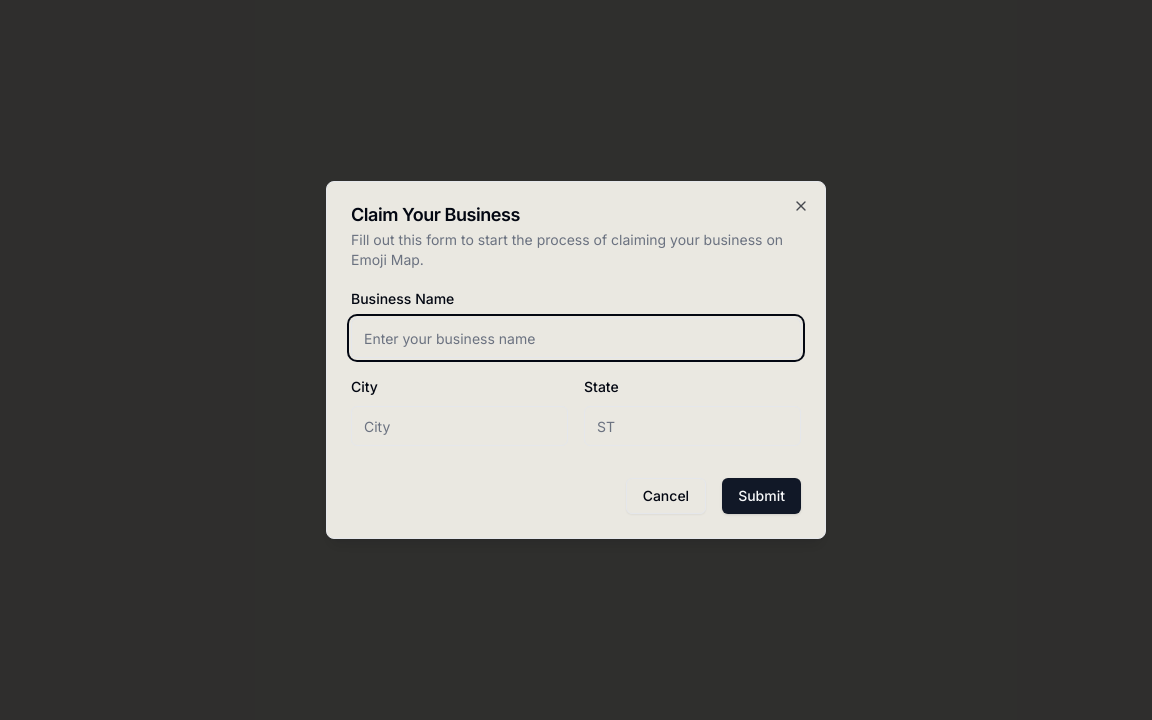
ClaimDialog › handles form reset on cancel
The image size is (1152, 720).
Step 1. Type "Test Business" into the field labelled "Business Name" → x=576, y=338, box [351,318,801,358]
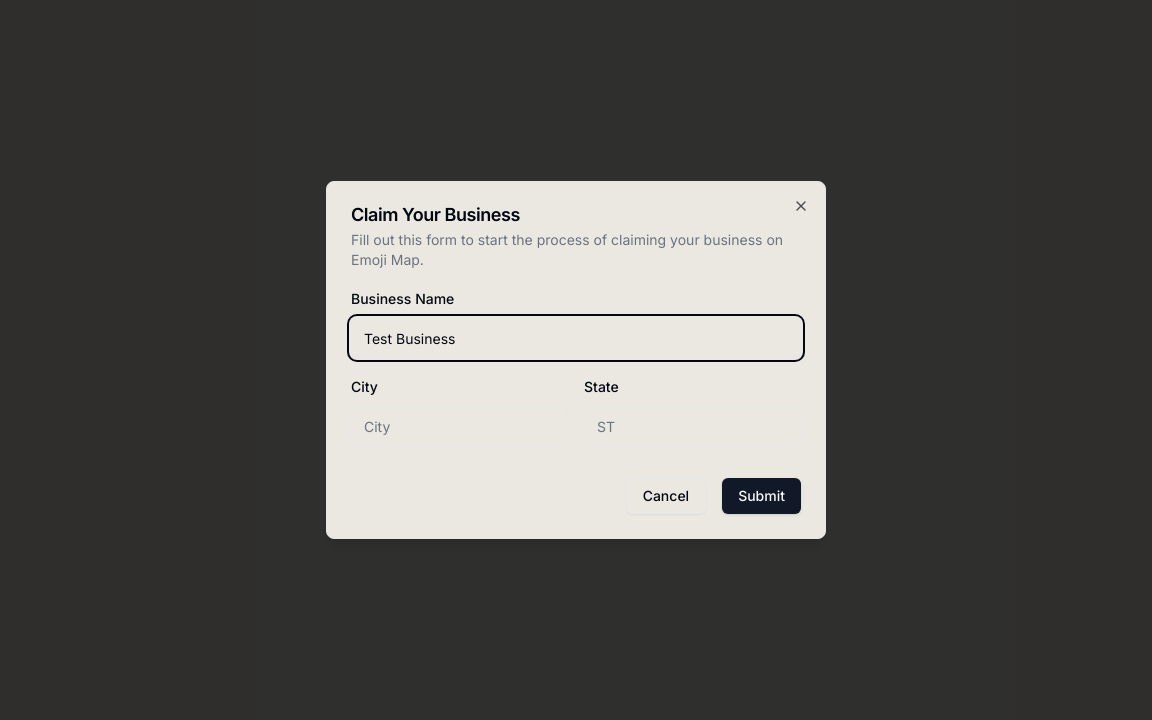
Step 2. Type "Test City" into the field labelled "City" → x=460, y=426, box [351,406,568,446]
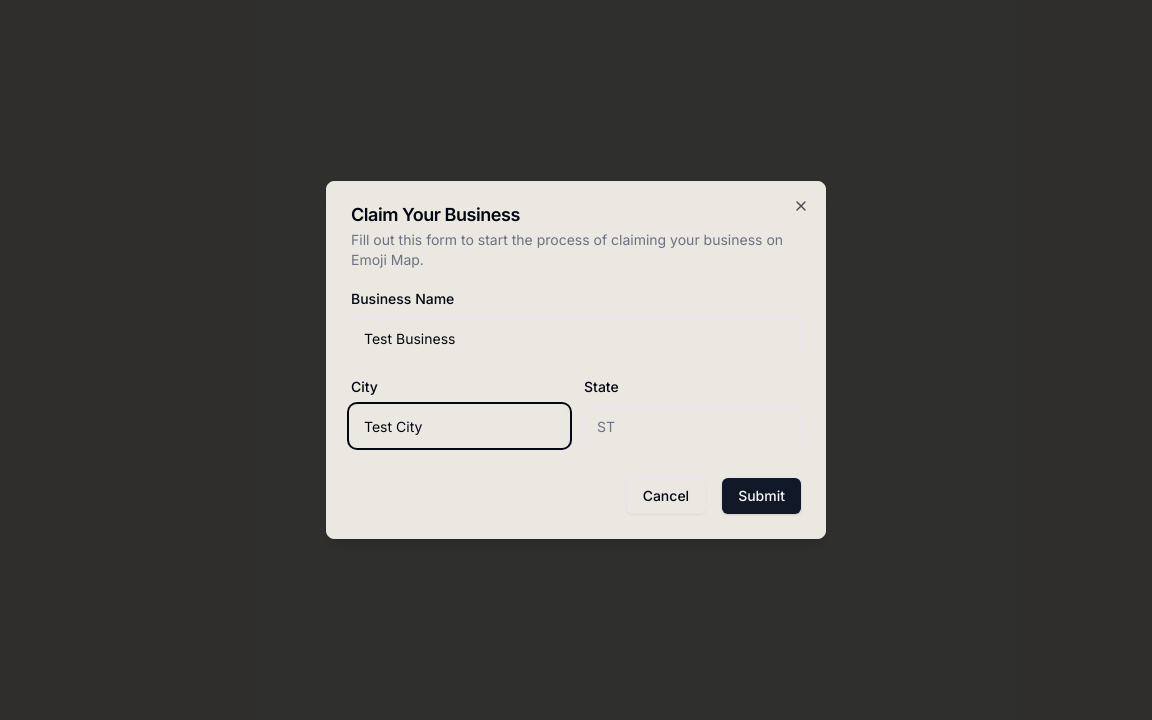
Step 3. Type "CA" into the field labelled "State" → x=692, y=426, box [584,406,801,446]
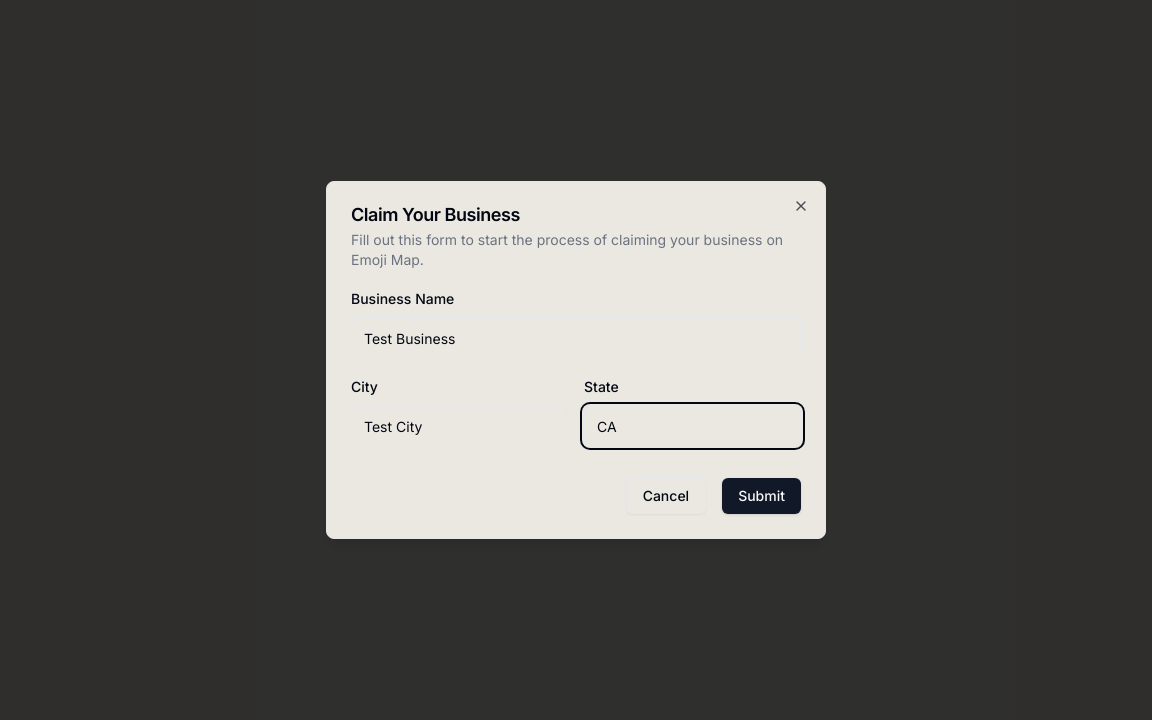
Step 4. Click the button "Cancel" → x=666, y=496, box [626,478,706,514]
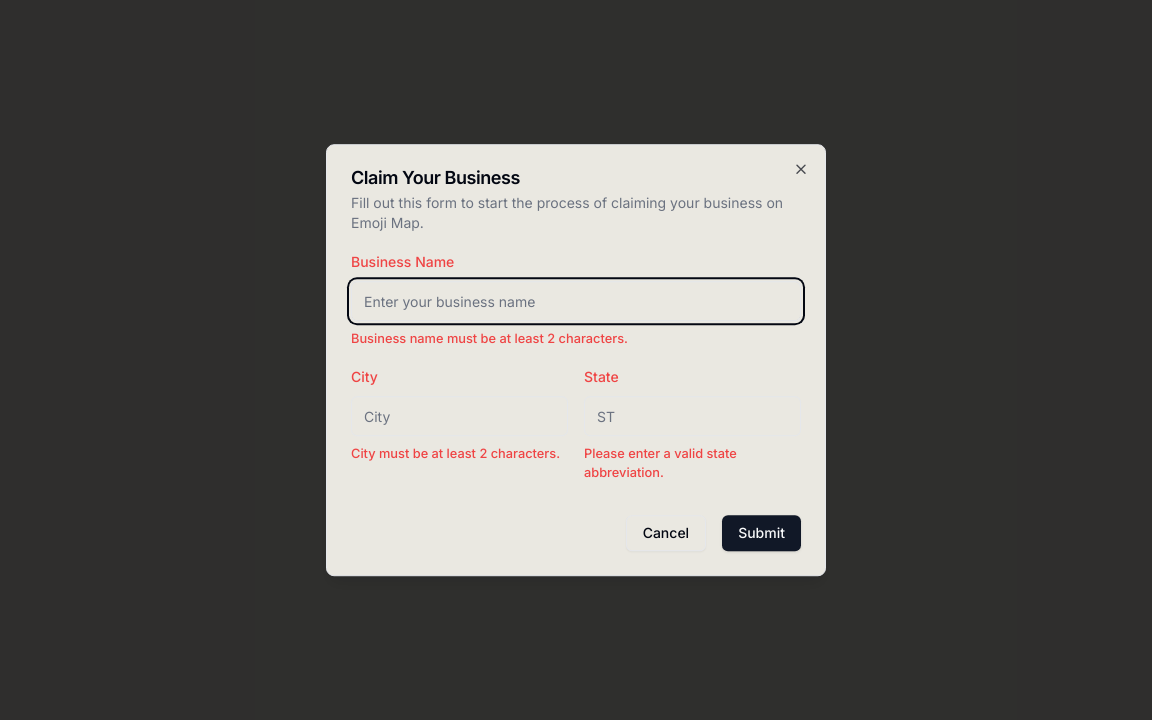
Check: the field labelled "Business Name" is empty, box [351,281,801,321]
Check: the field labelled "City" is empty, box [351,396,568,436]
Check: the field labelled "State" is empty, box [584,396,801,436]
